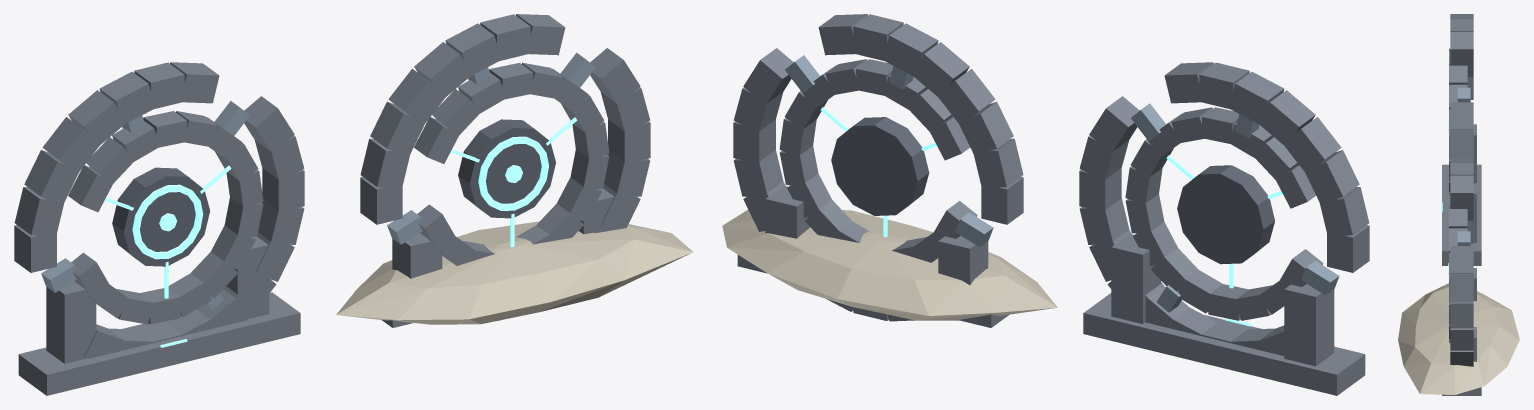
3 renders of one model, left to right at view 1: azimuth 30°, elevation 25°; view 2: azimuth 150°, elevation 25°; view 3: azimuth 270°, elevation 25°, orthographic. The views are drawn at different scales.
Visible parts, largest first — view 1: DL012_AncientRelicSet_relic_stone, DL012_AncientRelicSet_sediment, DL012_AncientRelicSet_metal_dark, DL012_AncientRelicSet_emissive_teal, DL012_AncientRelicSet_stone_blue; view 2: DL012_AncientRelicSet_relic_stone, DL012_AncientRelicSet_sediment, DL012_AncientRelicSet_metal_dark, DL012_AncientRelicSet_stone_blue, DL012_AncientRelicSet_emissive_teal; view 3: DL012_AncientRelicSet_relic_stone, DL012_AncientRelicSet_sediment, DL012_AncientRelicSet_stone_blue.
Boxes of the visible parts, bbox=[...] form: DL012_AncientRelicSet_relic_stone: bbox=[14, 14, 650, 395]; DL012_AncientRelicSet_sediment: bbox=[336, 221, 693, 324]; DL012_AncientRelicSet_metal_dark: bbox=[112, 119, 555, 266]; DL012_AncientRelicSet_emissive_teal: bbox=[104, 117, 577, 347]; DL012_AncientRelicSet_stone_blue: bbox=[41, 52, 595, 310]; DL012_AncientRelicSet_relic_stone: bbox=[733, 14, 1369, 395]; DL012_AncientRelicSet_sediment: bbox=[722, 210, 1057, 320]; DL012_AncientRelicSet_metal_dark: bbox=[831, 117, 1274, 264]; DL012_AncientRelicSet_stone_blue: bbox=[785, 55, 1339, 312]; DL012_AncientRelicSet_emissive_teal: bbox=[820, 107, 1282, 326]; DL012_AncientRelicSet_relic_stone: bbox=[1442, 14, 1481, 395]; DL012_AncientRelicSet_sediment: bbox=[1398, 283, 1519, 394]; DL012_AncientRelicSet_stone_blue: bbox=[1457, 87, 1470, 245].
Size of the model in its own units: 22.35 by 10.7 by 5.23.
